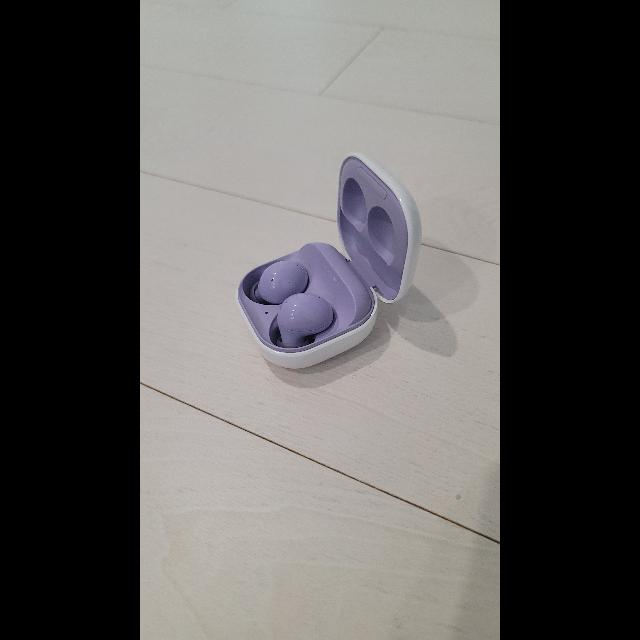GALAXY-BUDS-2: (236, 154, 422, 369)
